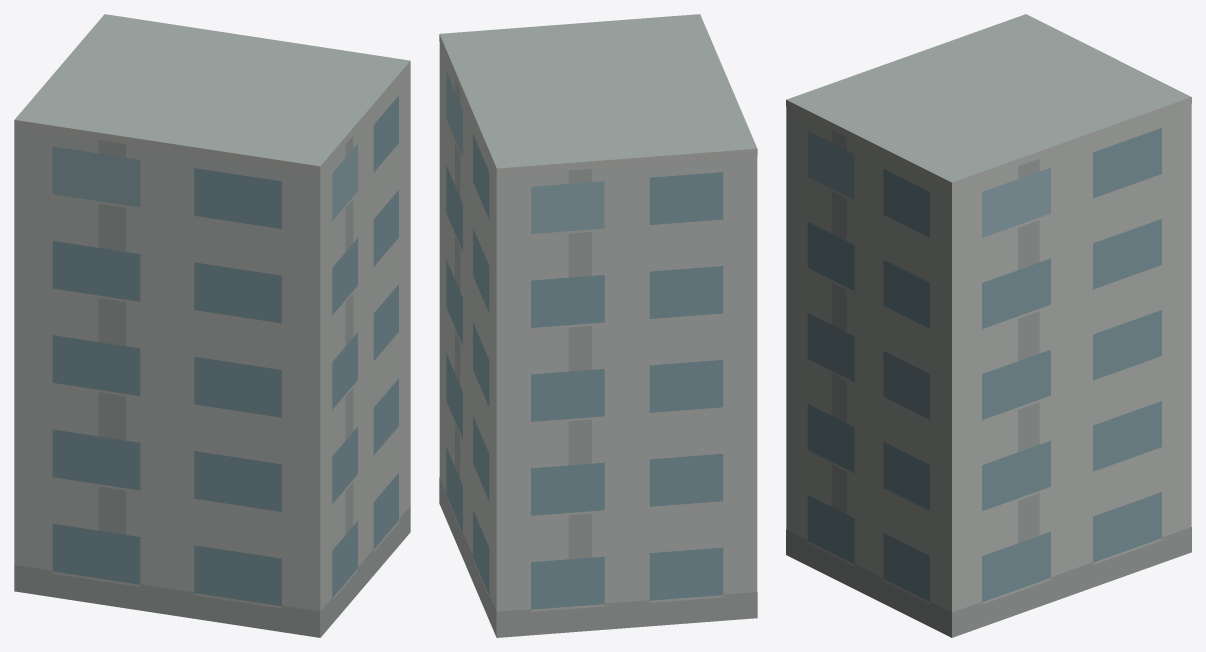
Rendered from residential-f1bf65ac-8f58-4557-8a43-2d74f4cab59d.glb.
3 renders of one model, left to right at view 1: azimuth 30°, elevation 25°; view 2: azimuth 150°, elevation 25°; view 3: azimuth 270°, elevation 25°, orthographic. The views are drawn at different scales.
Parts seen in each view (by area): view 1: residential-f1bf65ac-8f58-4557-8a43-2d74f4cab59d.tmp; view 2: residential-f1bf65ac-8f58-4557-8a43-2d74f4cab59d.tmp; view 3: residential-f1bf65ac-8f58-4557-8a43-2d74f4cab59d.tmp.
Part boxes in pixels (x1=…): residential-f1bf65ac-8f58-4557-8a43-2d74f4cab59d.tmp: x1=14, y1=14, x2=410, y2=637; residential-f1bf65ac-8f58-4557-8a43-2d74f4cab59d.tmp: x1=439, y1=14, x2=757, y2=637; residential-f1bf65ac-8f58-4557-8a43-2d74f4cab59d.tmp: x1=786, y1=14, x2=1191, y2=637.
Size of the model in its own units: 12.12 by 15.25 by 12.32.
